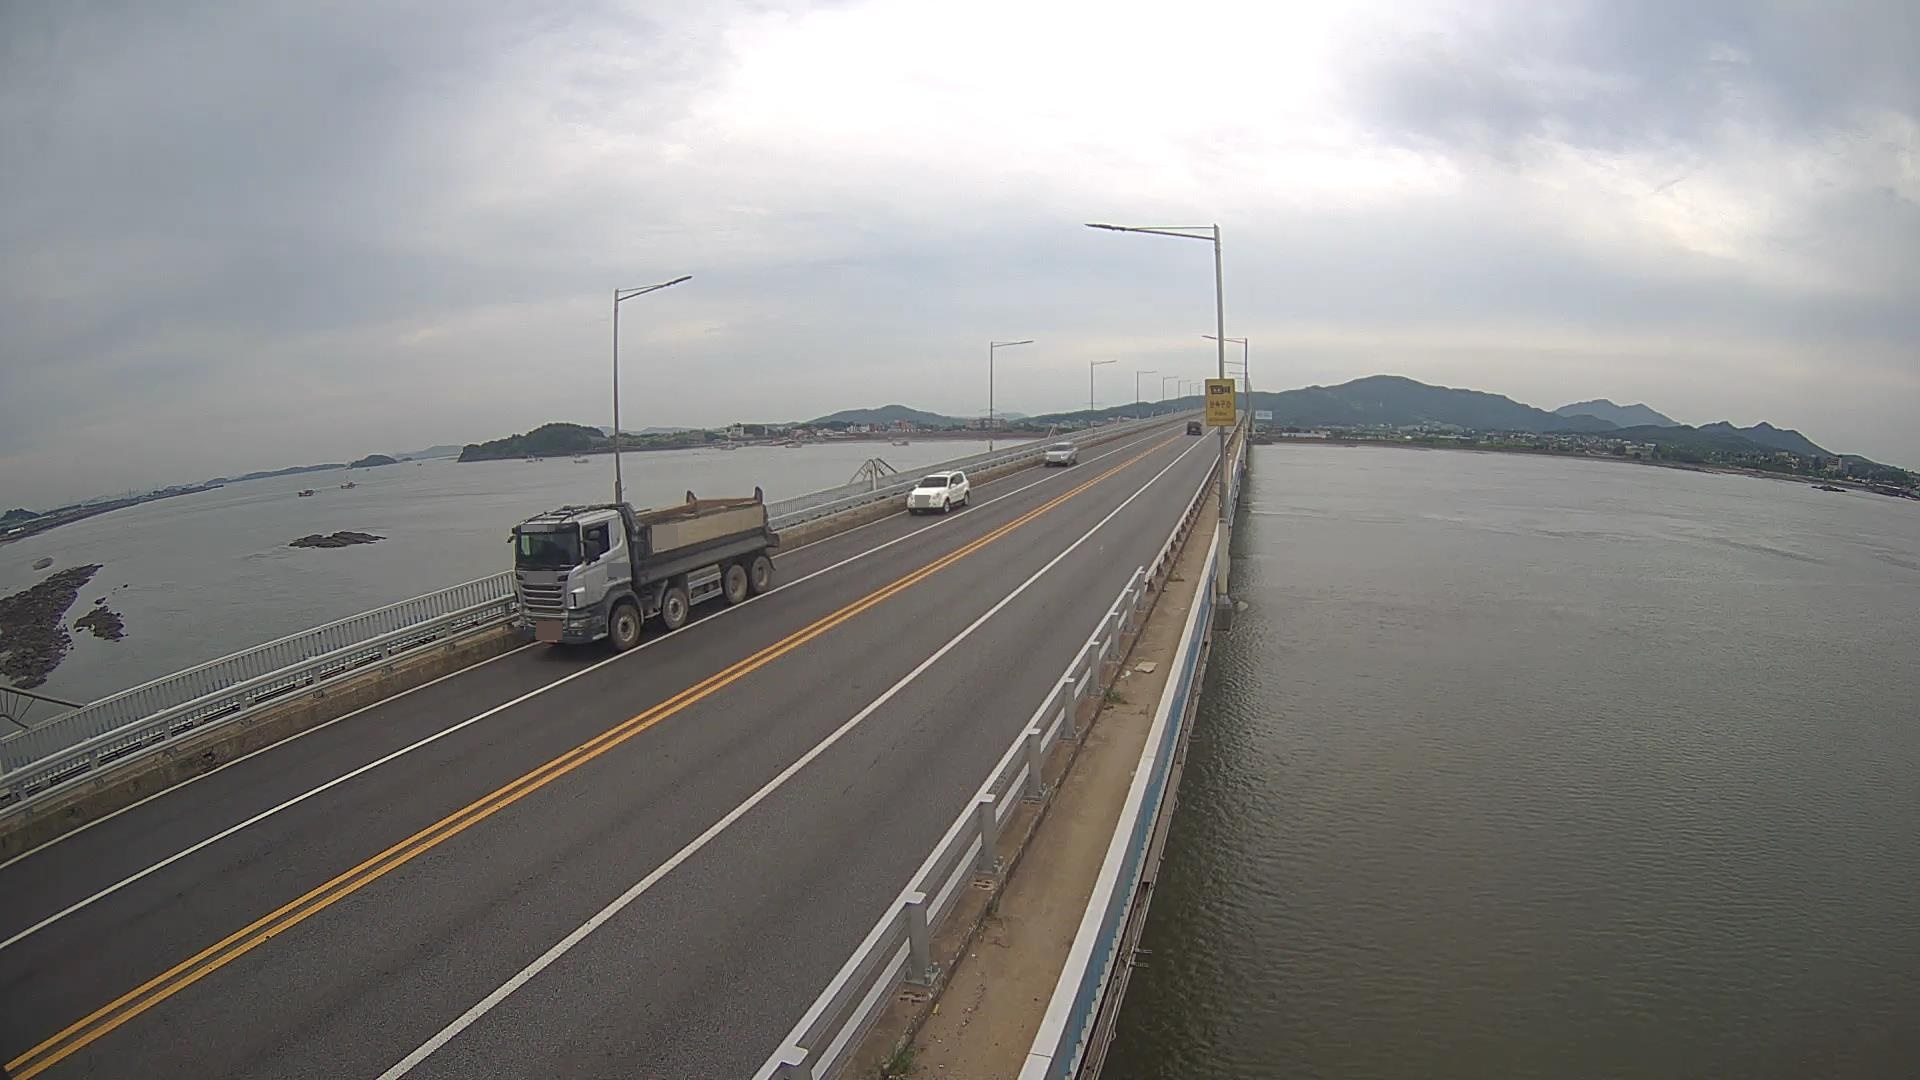정상차량: (508, 487, 780, 651)
